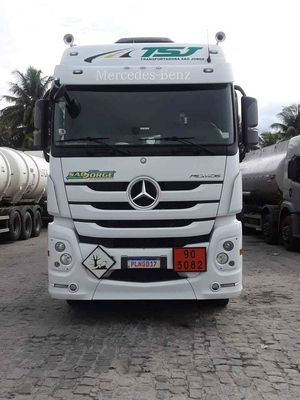Frontal Caminhao: (30, 29, 259, 303)
